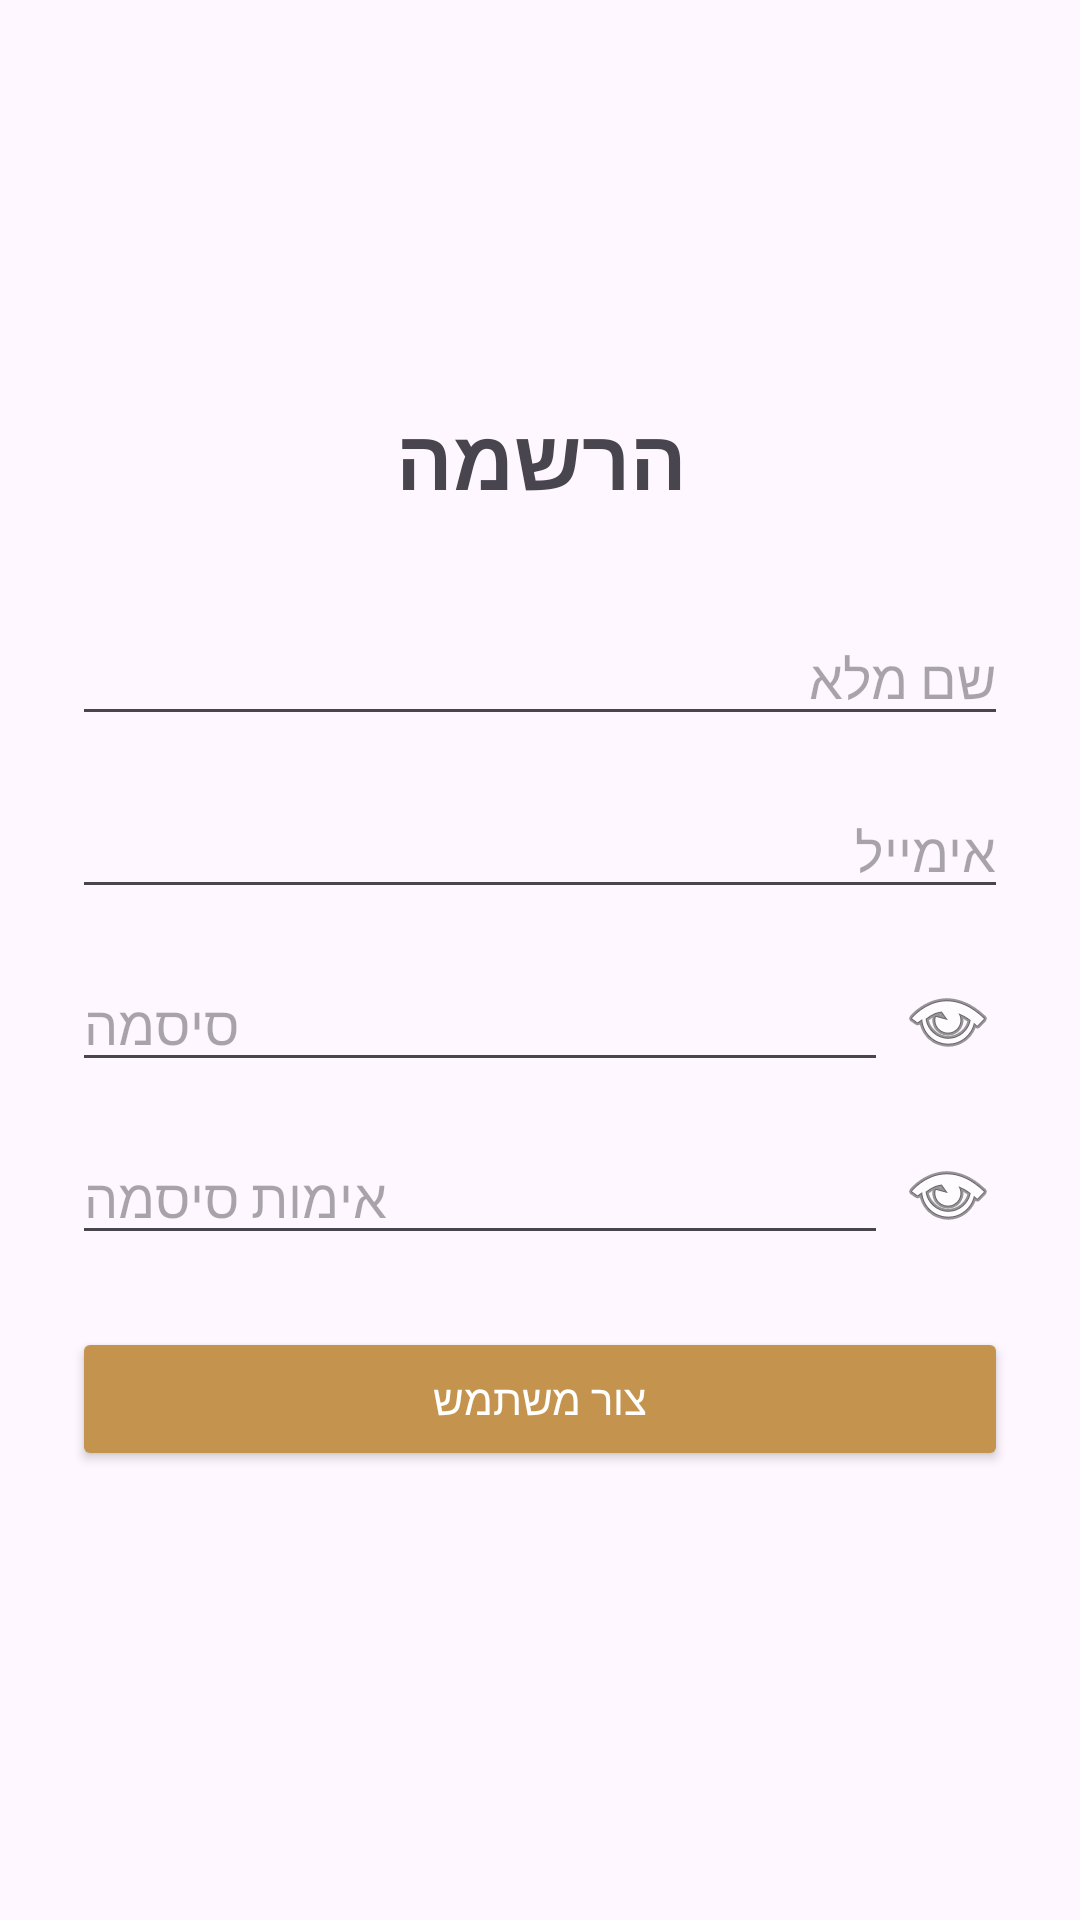

Named icons in this screenshot (1080×1920) and their centers, (x,y):
view: (948,1022), (948,1195)
